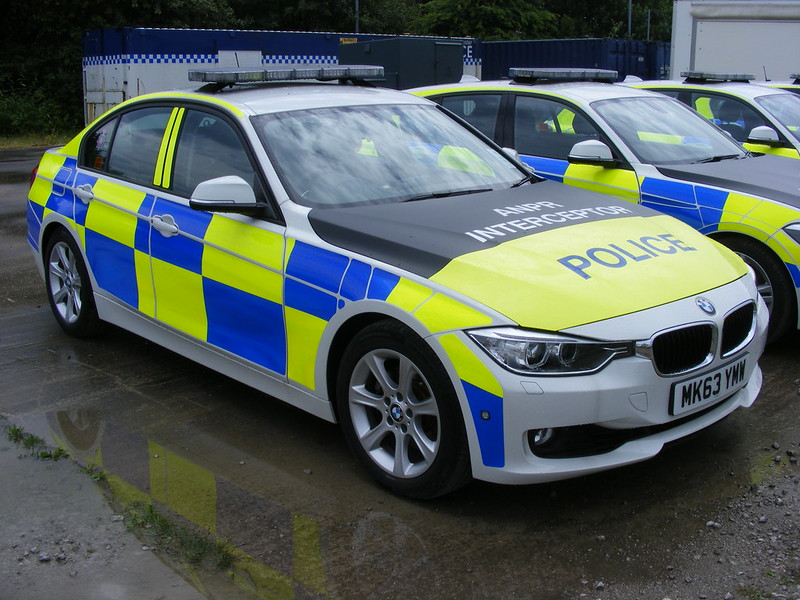number_plate: (669, 351, 767, 417)
